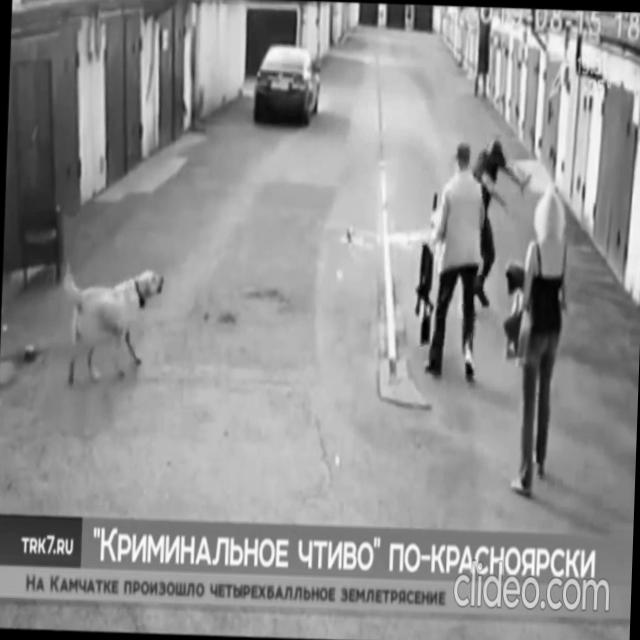gun: (412, 185, 440, 348)
person: (509, 185, 574, 498), (467, 136, 532, 311)
person with a gun: (411, 138, 486, 386)
